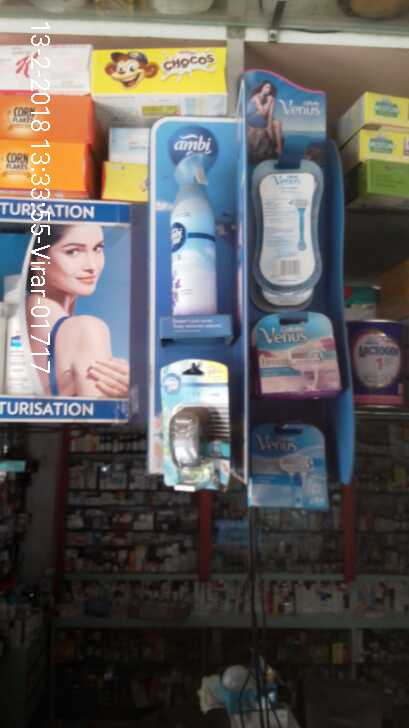beauty: (252, 310, 344, 401), (249, 423, 332, 510)
home: (162, 357, 234, 494), (169, 152, 218, 314)
